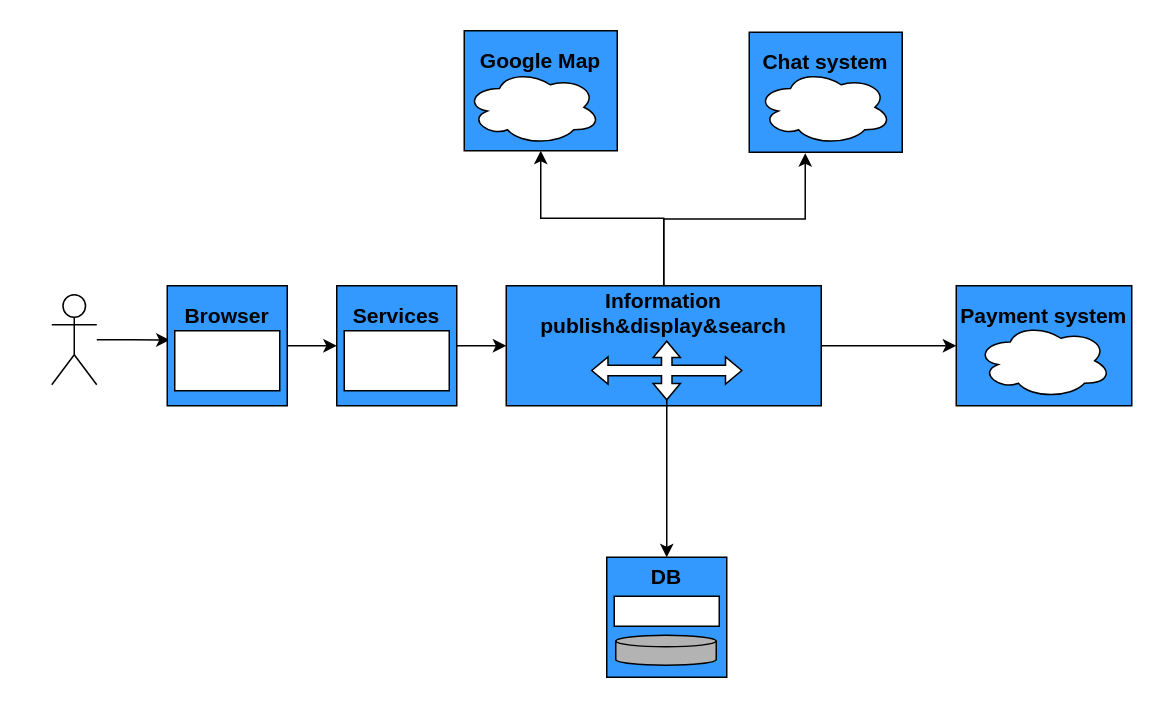
The diagram is 1158 pixels wide and 704 high, and some of its shapes have lost their labels. Each missing label, with the centre of its shape:
"customers &tradesman" goes at (x=73, y=339).
"Firebase" goes at (x=666, y=610).
"Security Validation" goes at (x=226, y=360).
"Webservies" goes at (x=396, y=360).
